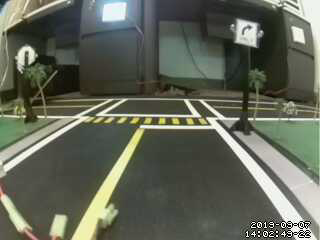Right_only_sign: (231, 16, 259, 51)
